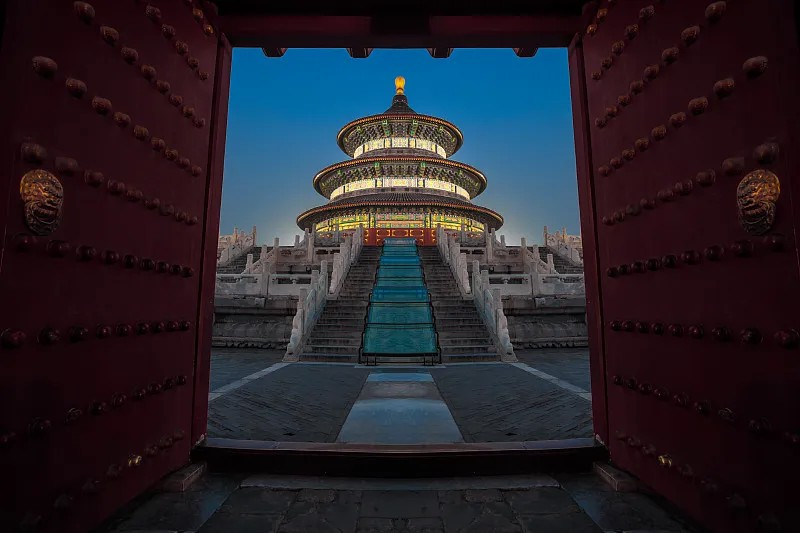Heaven: (295, 76, 504, 245)
